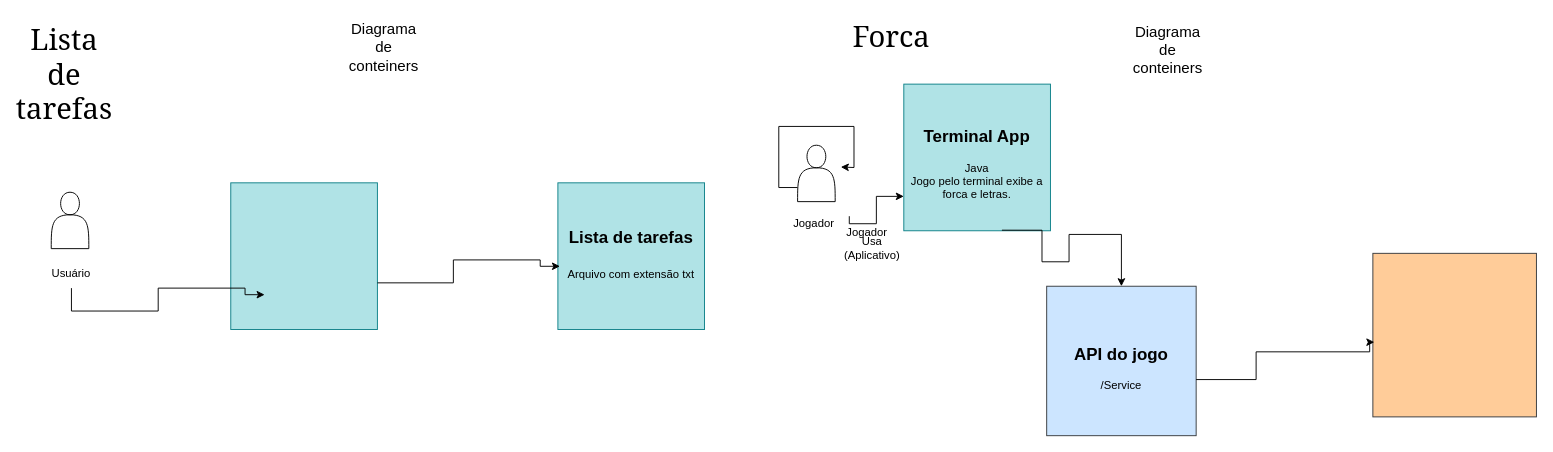
The diagram is 1553 pixels wide and 452 high, and some of its shapes have lost their labels. The box of each missing label's shape, as (x1, y1, x2, y2) in pixels:
Aplicativo mobile Java para lembre: (230, 182, 377, 329)
Banco de palavras /Array Armazena as palavras.: (1372, 252, 1536, 417)
